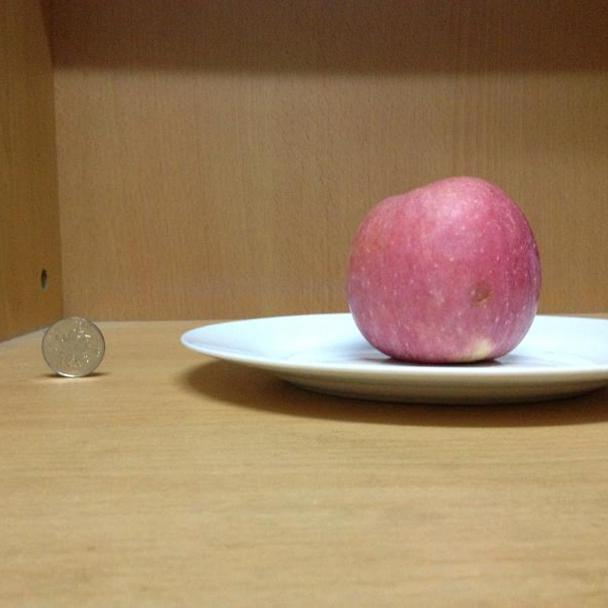apple: (345, 177, 551, 366)
